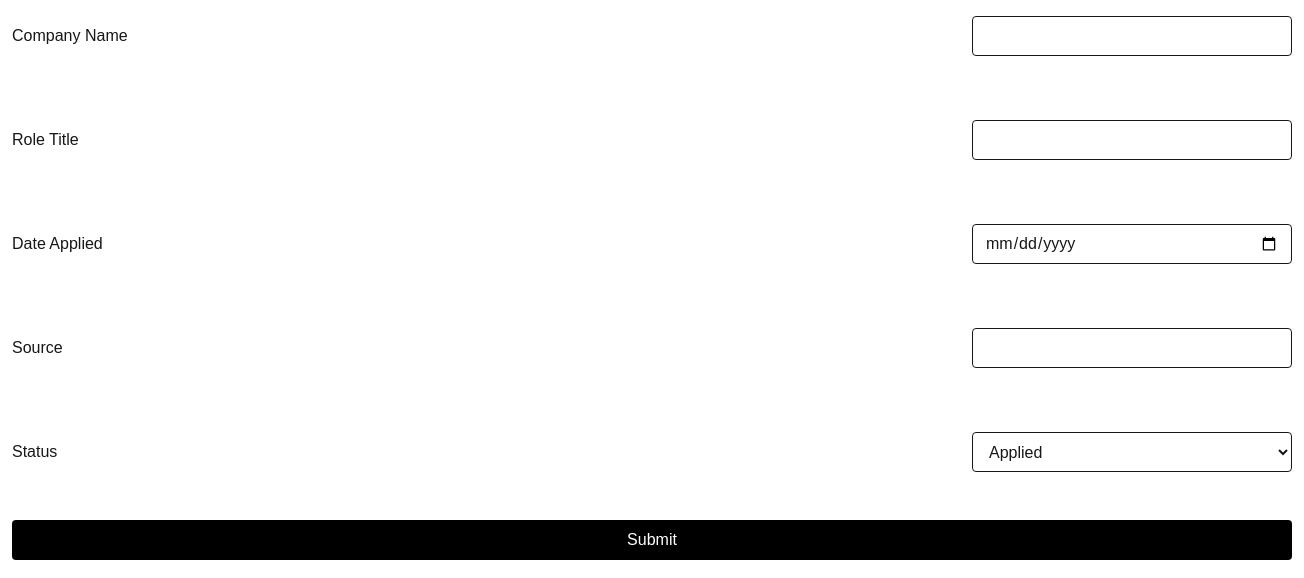
Test: shows inline errors when required fields are empty on submit
Step 1. Click the button "Submit" → click(652, 540), box [12,520,1292,560]
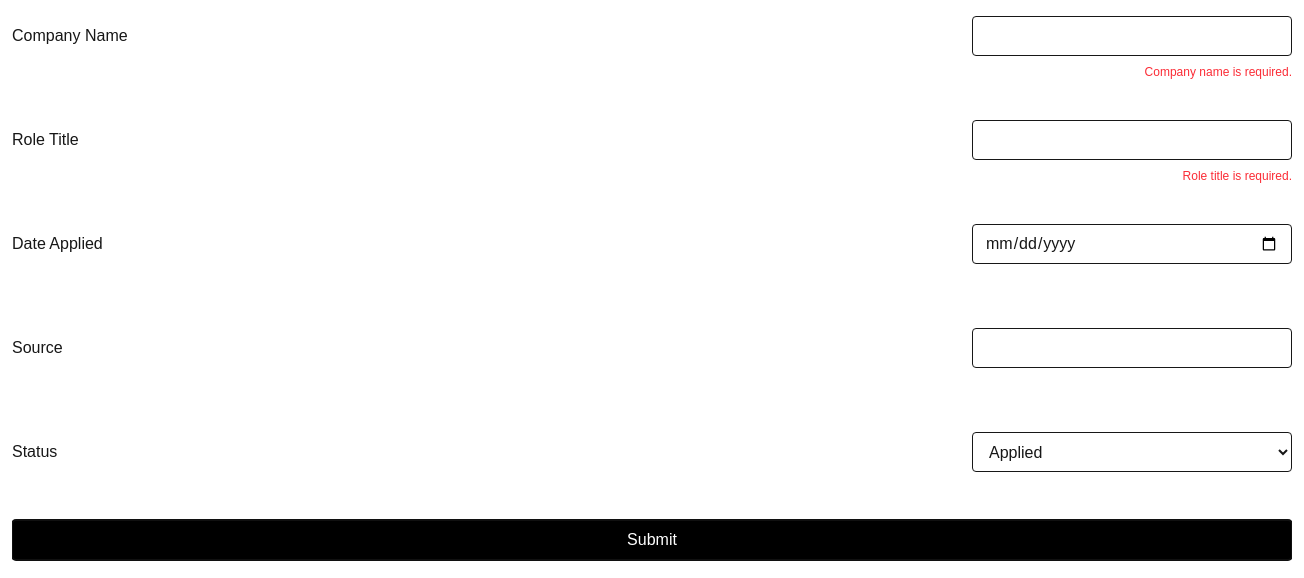
Check: the text "Company name is required." is shown, box [1145,65,1292,79]
Check: the text "Role title is required." is shown, box [1183,169,1292,183]
